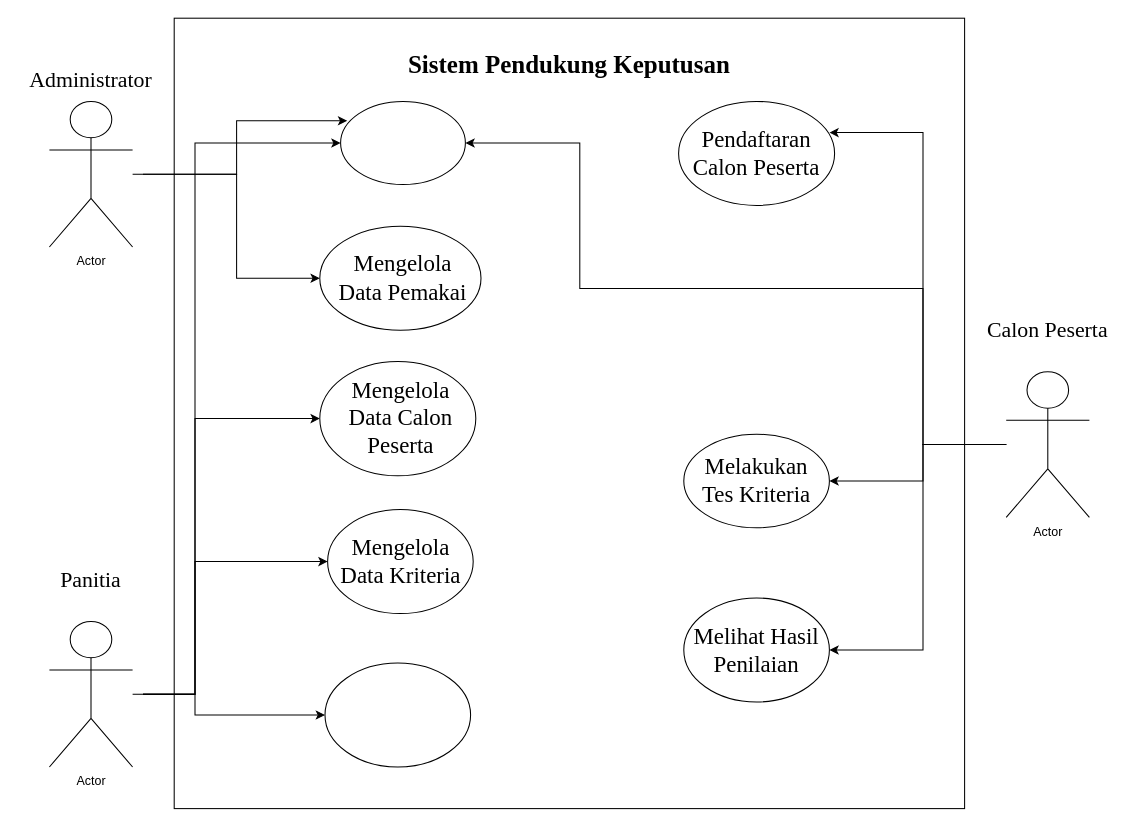
This 1138x827 diagram has some shape labels left out. Here are the shapes that lost their labels. From the top down, the centre of each, then its label:
At (402,142): "Login".
At (397,714): "Penilaian Calon Peserta".
